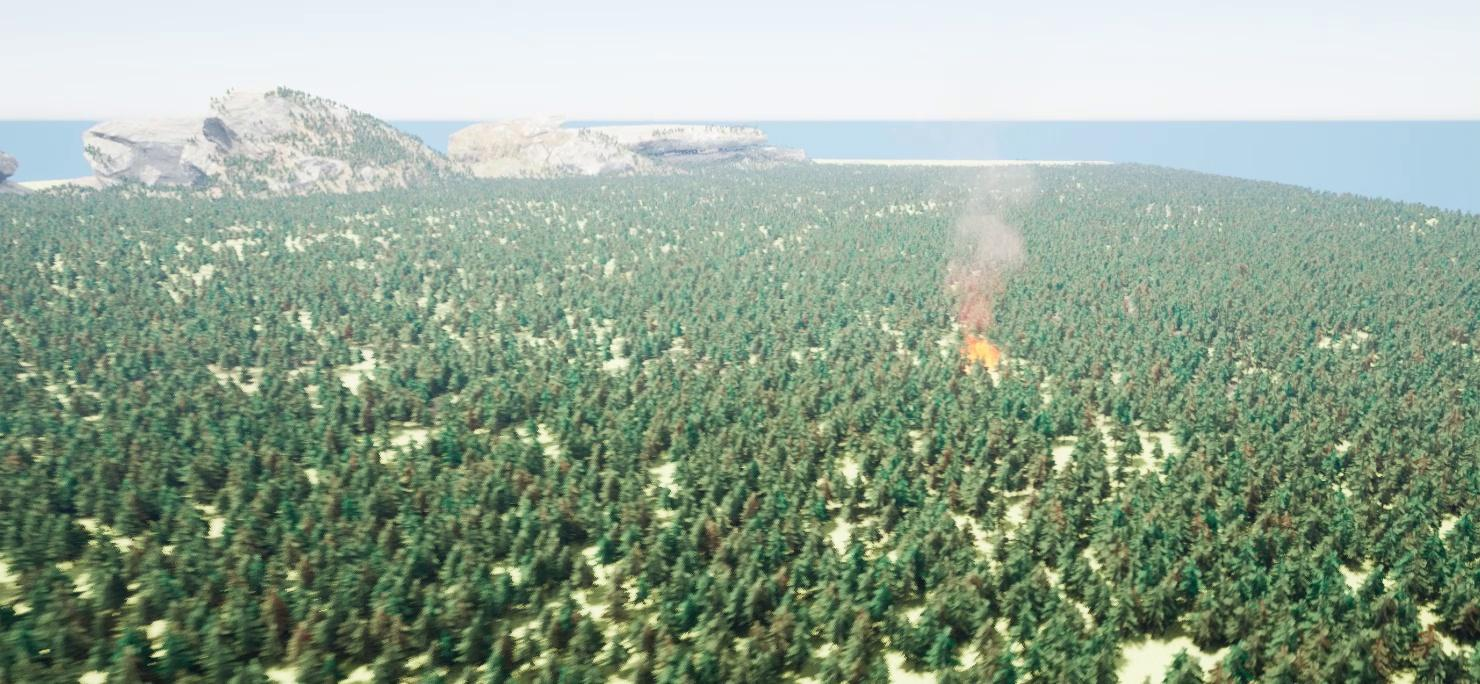fire: (957, 328, 1000, 367)
smoke: (939, 156, 1038, 331)
